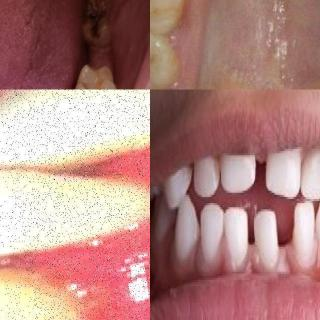Gum Swelling: (65, 129, 150, 320)
cavities: (85, 0, 109, 44)
